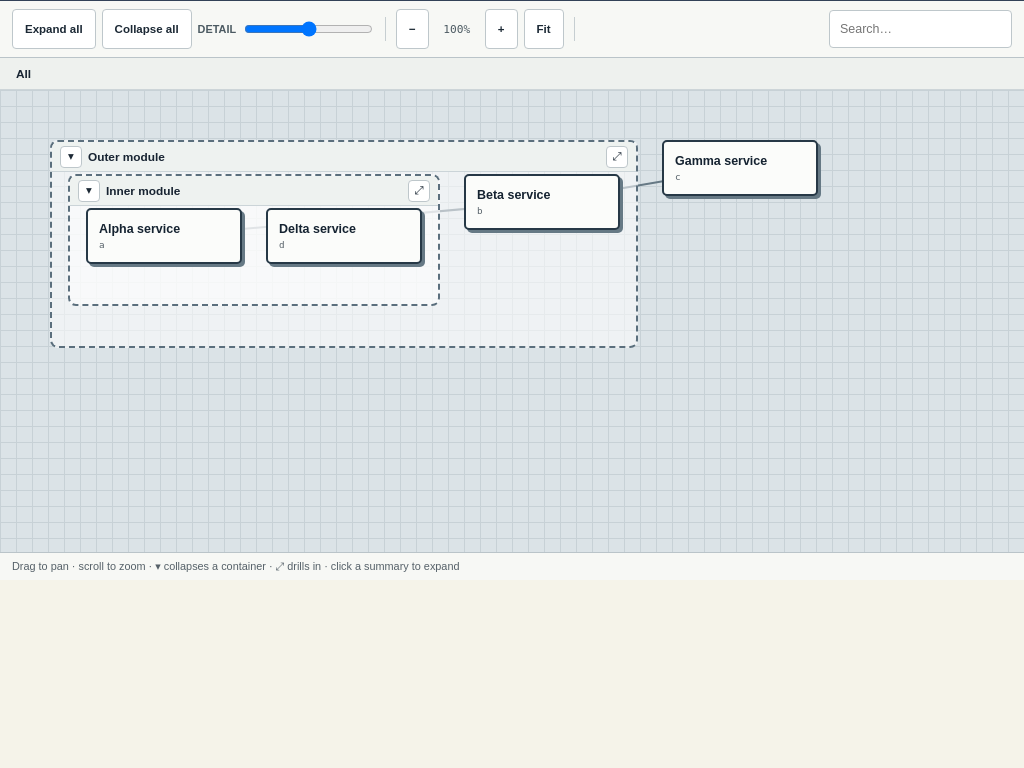
Test case: ExplorerSurface › collapses a single container from its header toggle
Click the button named "Collapse Inner module" at (89, 190), box [78, 180, 100, 202]
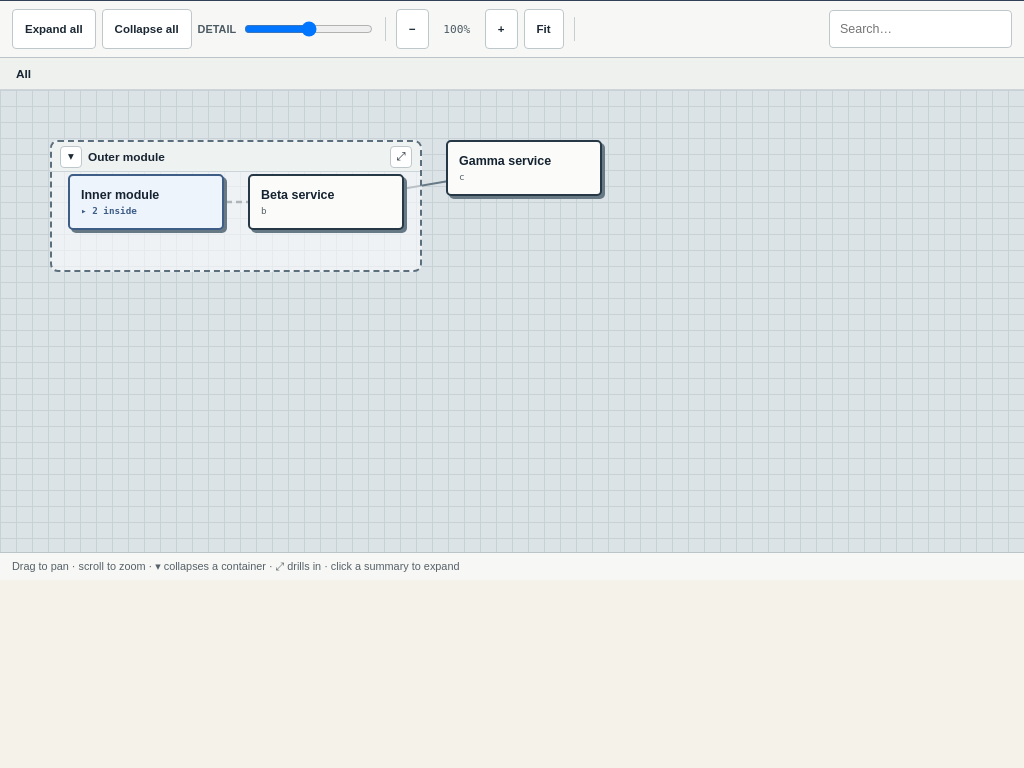
Expected: the text "Beta service" is shown, [261, 188, 334, 202]
Result: the button "Alpha service" is gone
